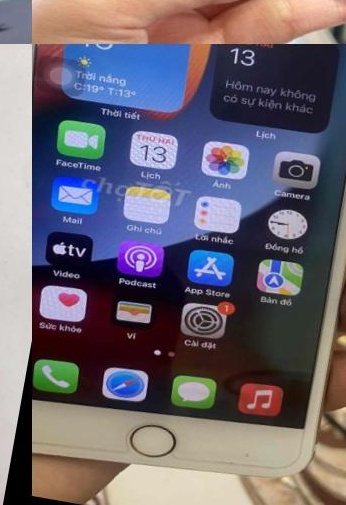scratch: (225, 442, 260, 466)
